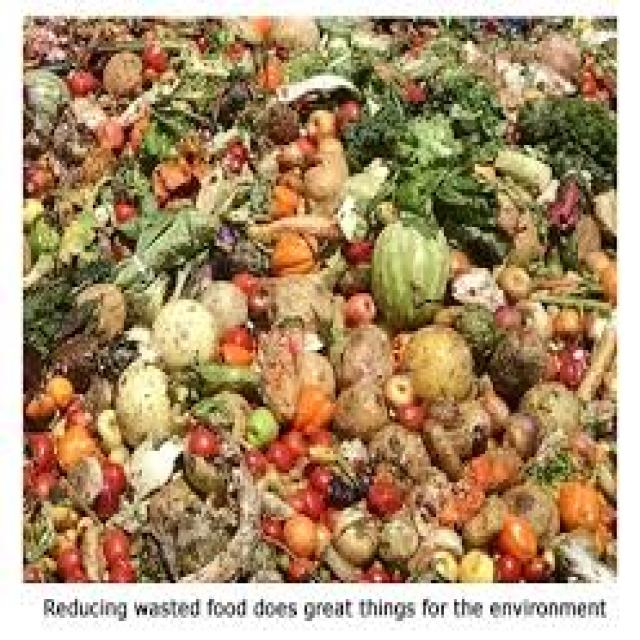food_waste: (55, 55, 566, 518), (372, 200, 473, 341), (391, 317, 480, 422), (139, 278, 226, 378), (315, 366, 400, 435)
